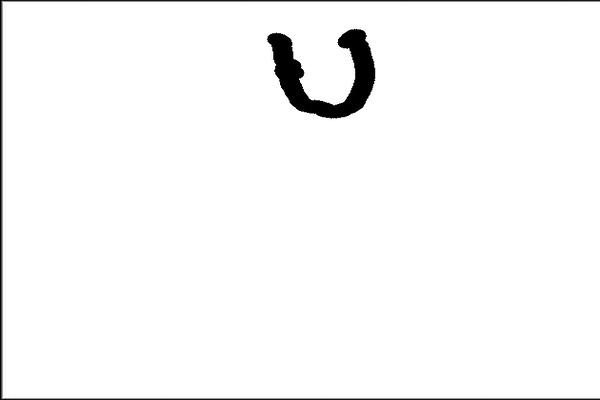U: (259, 23, 381, 123)
